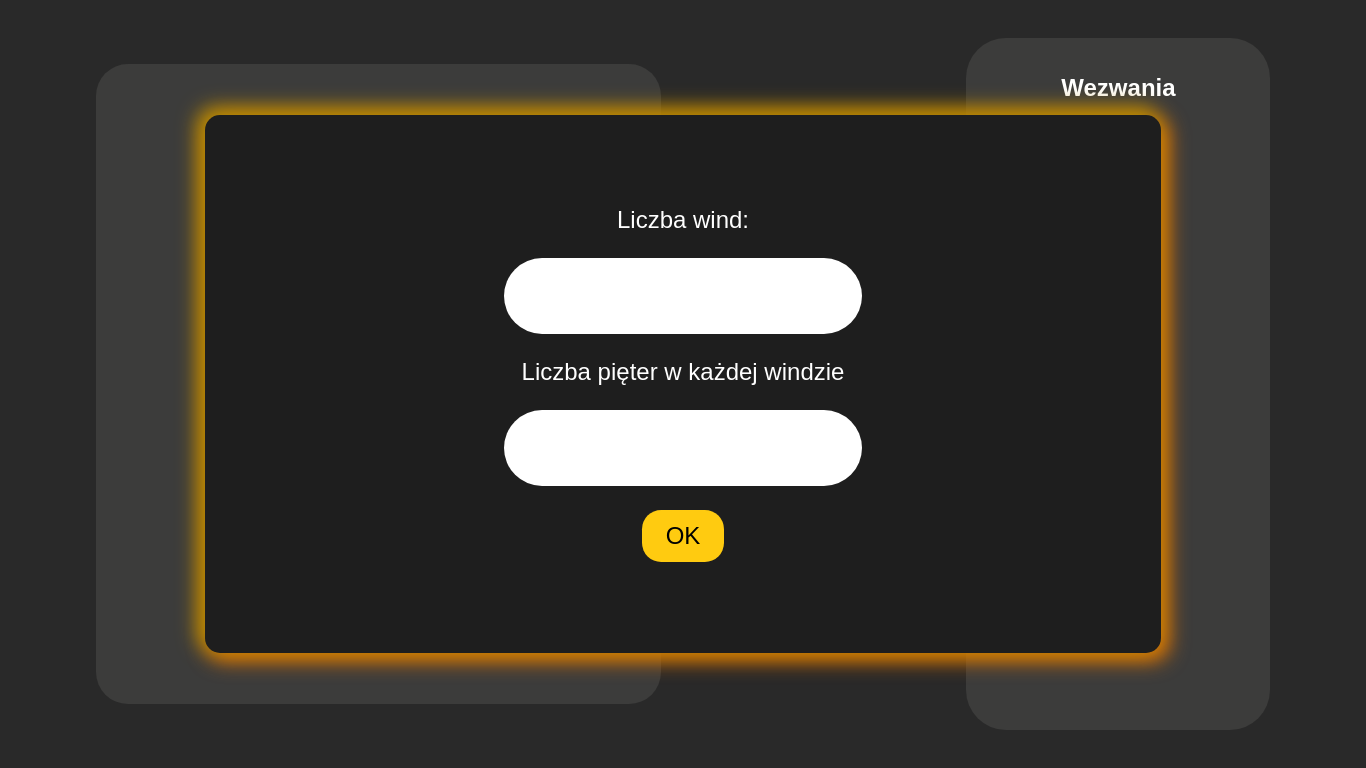
Test: Check if requests appear correctly › Creates one request
Type "5" into the 1st number field. click: [683, 296]
box: [504, 258, 862, 334]
Type "6" into the number field with id "floorNoInput". click: [683, 448]
box: [504, 410, 862, 486]
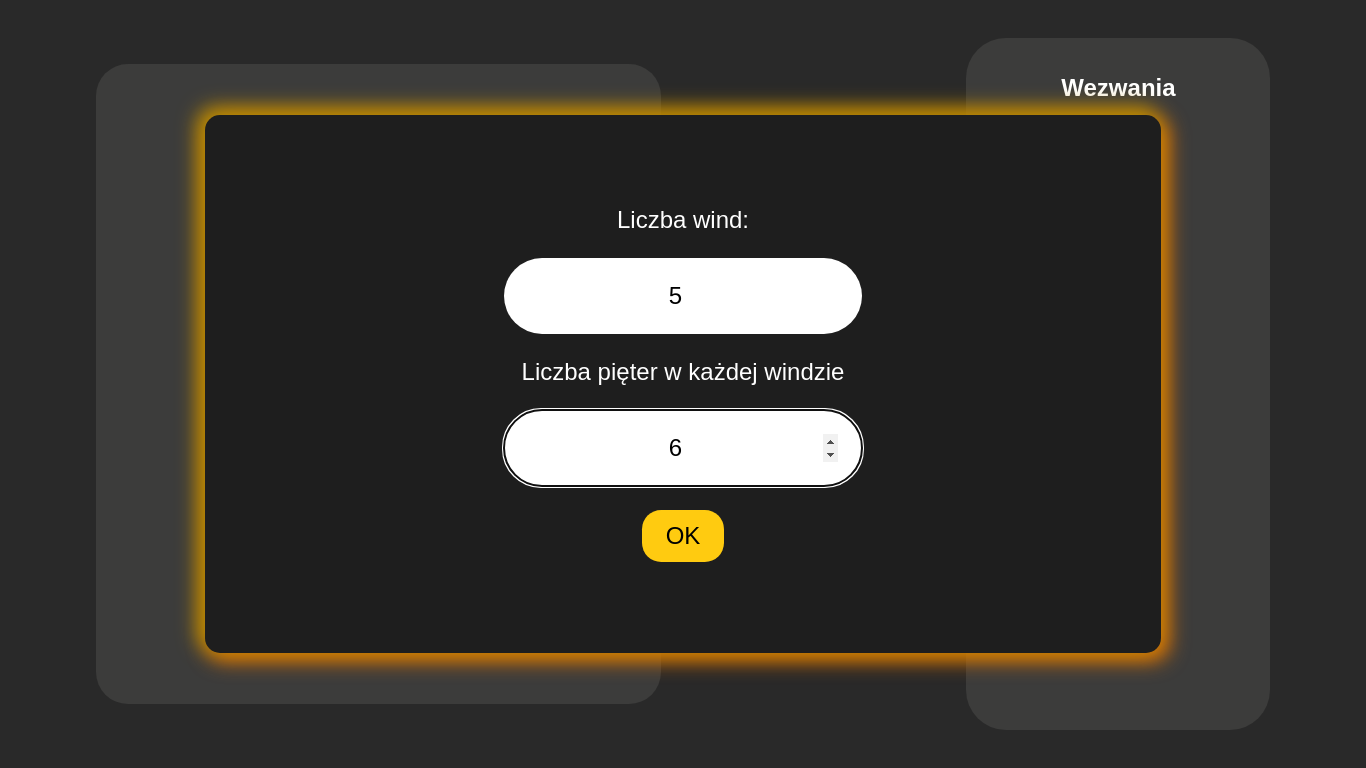
Submit the form, box [504, 206, 862, 562]
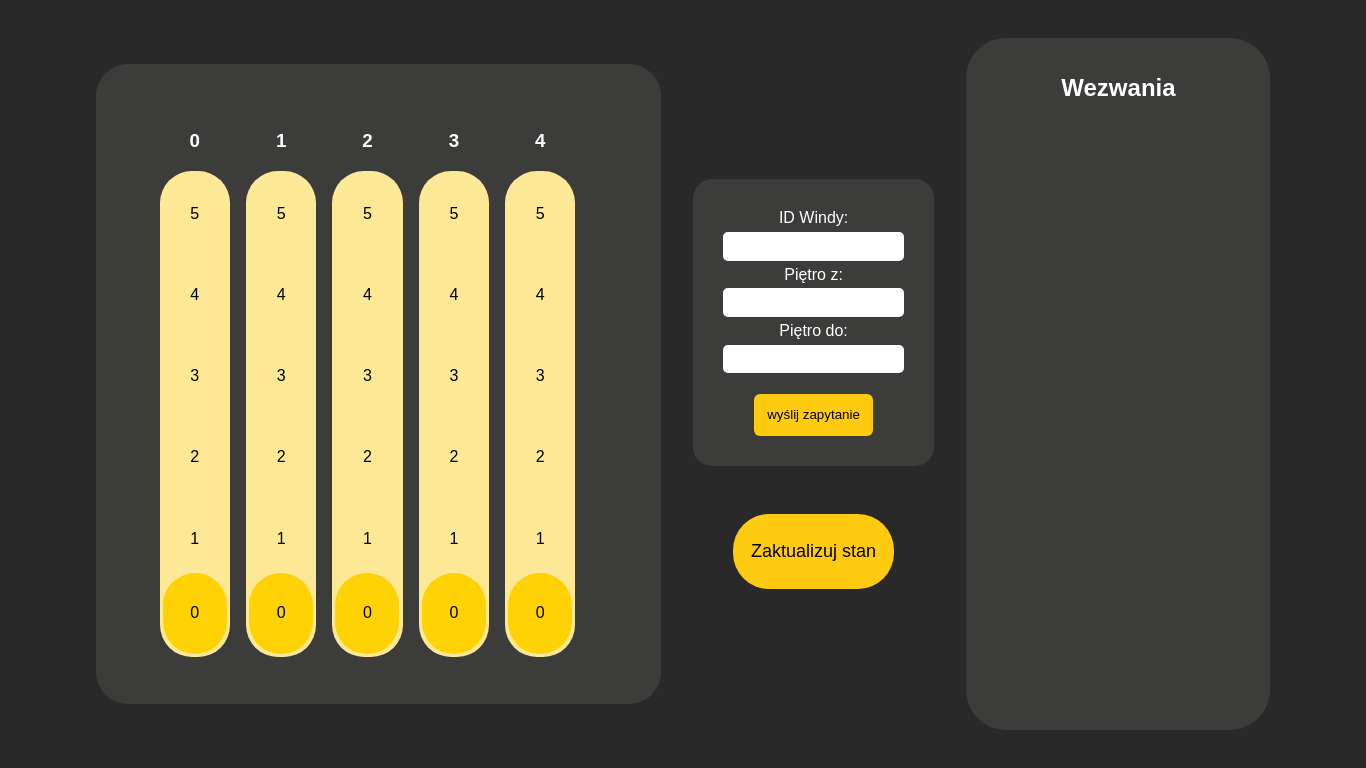
Type "1" into the 1st number field. click: [814, 247]
box: [723, 232, 904, 261]
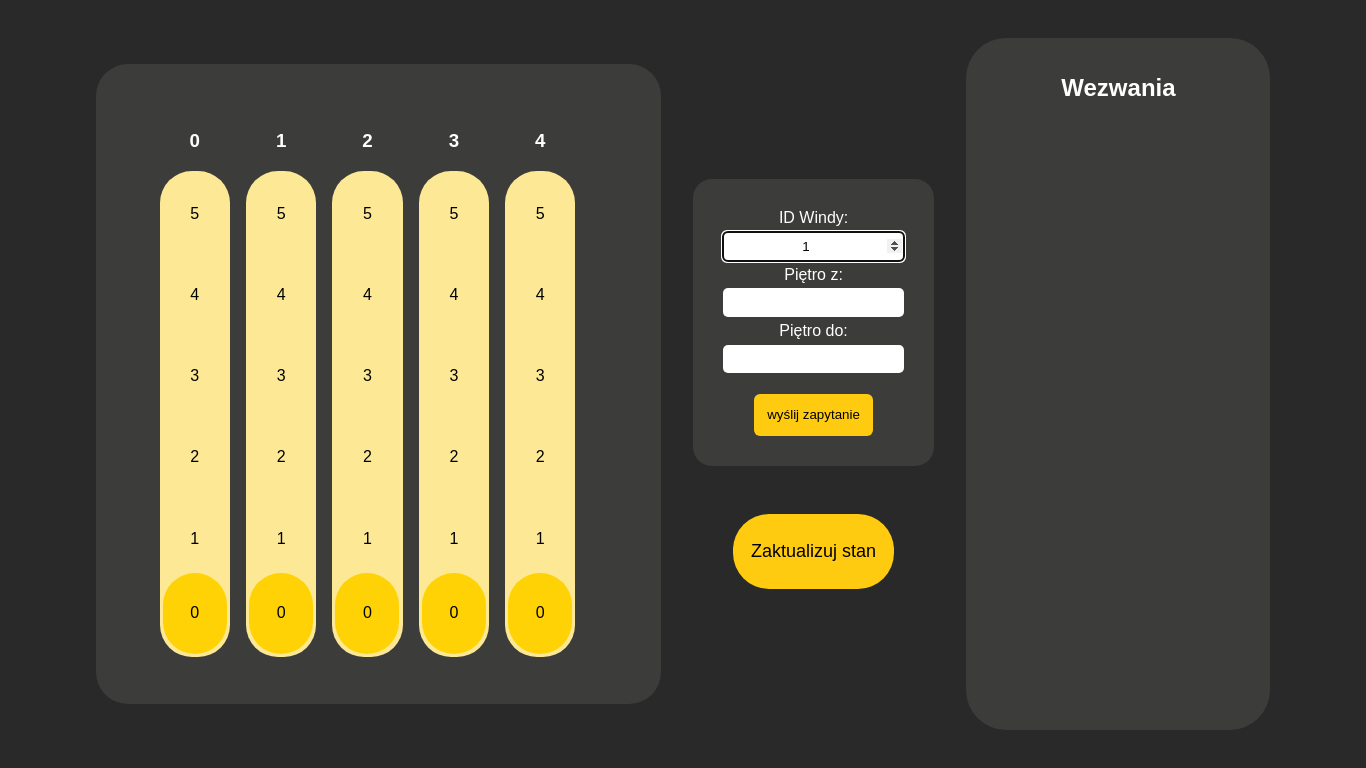
Type "5" into the number field with id "floorFrom". click: [814, 303]
box: [723, 288, 904, 317]
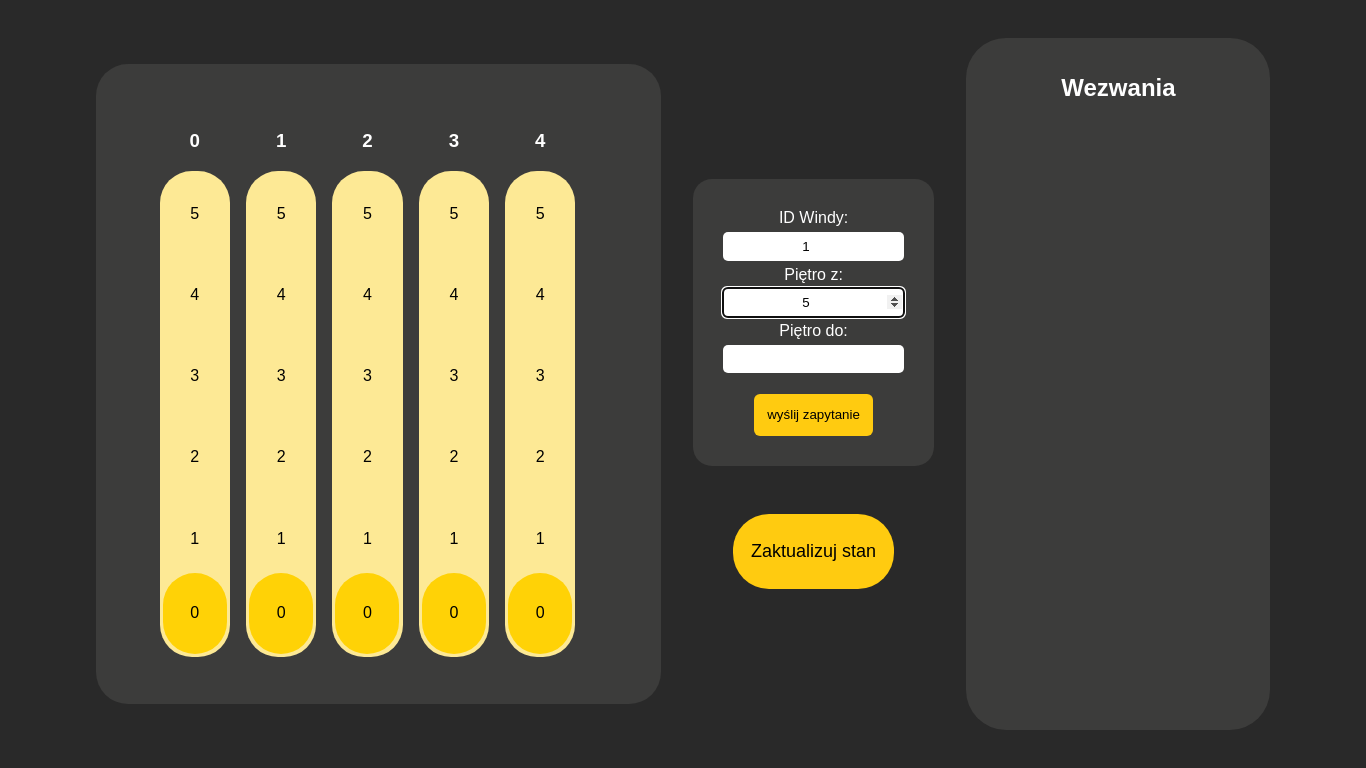
Type "3" into the number field with id "floorTo". click: [814, 360]
box: [723, 345, 904, 374]
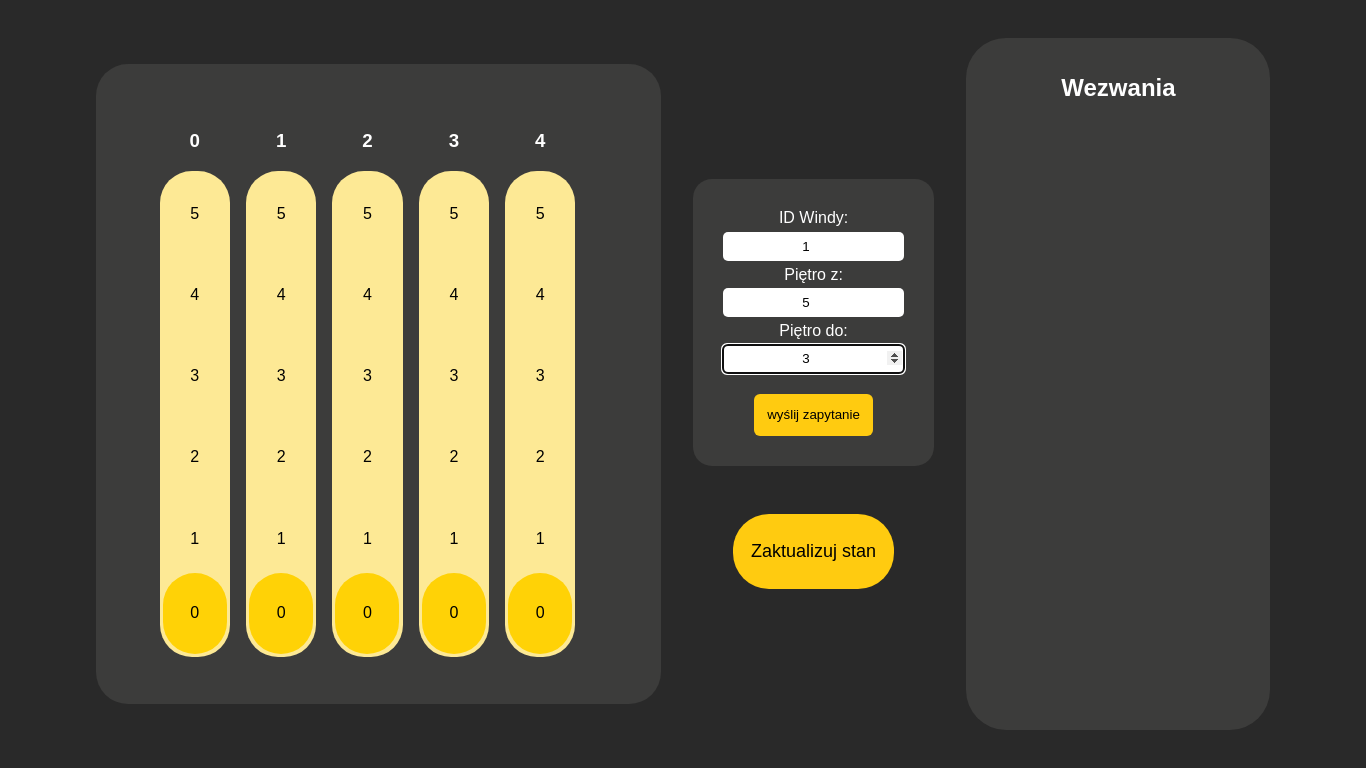
Submit the form, box [717, 203, 911, 442]
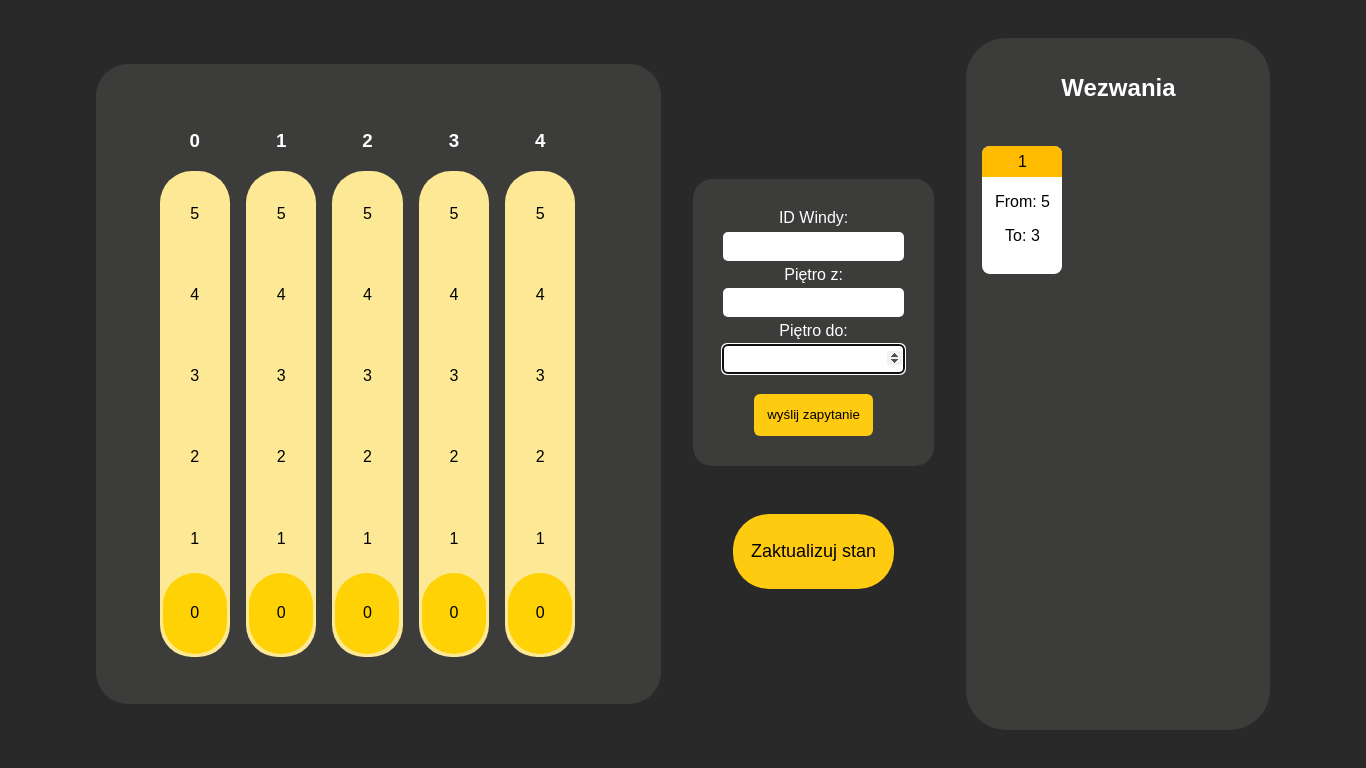
Expected: the text "1" below "Wezwania" is shown, [982, 146, 1062, 177]
Expected: the text "From: 5" is shown, [995, 193, 1050, 210]
Expected: the text "To: 3" is shown, [1005, 227, 1040, 244]
